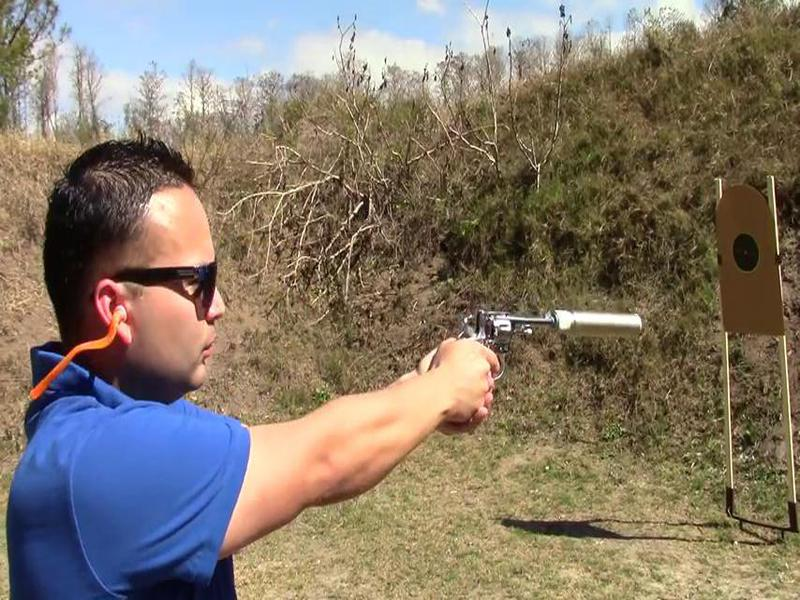Revolver: (427, 296, 558, 398)
